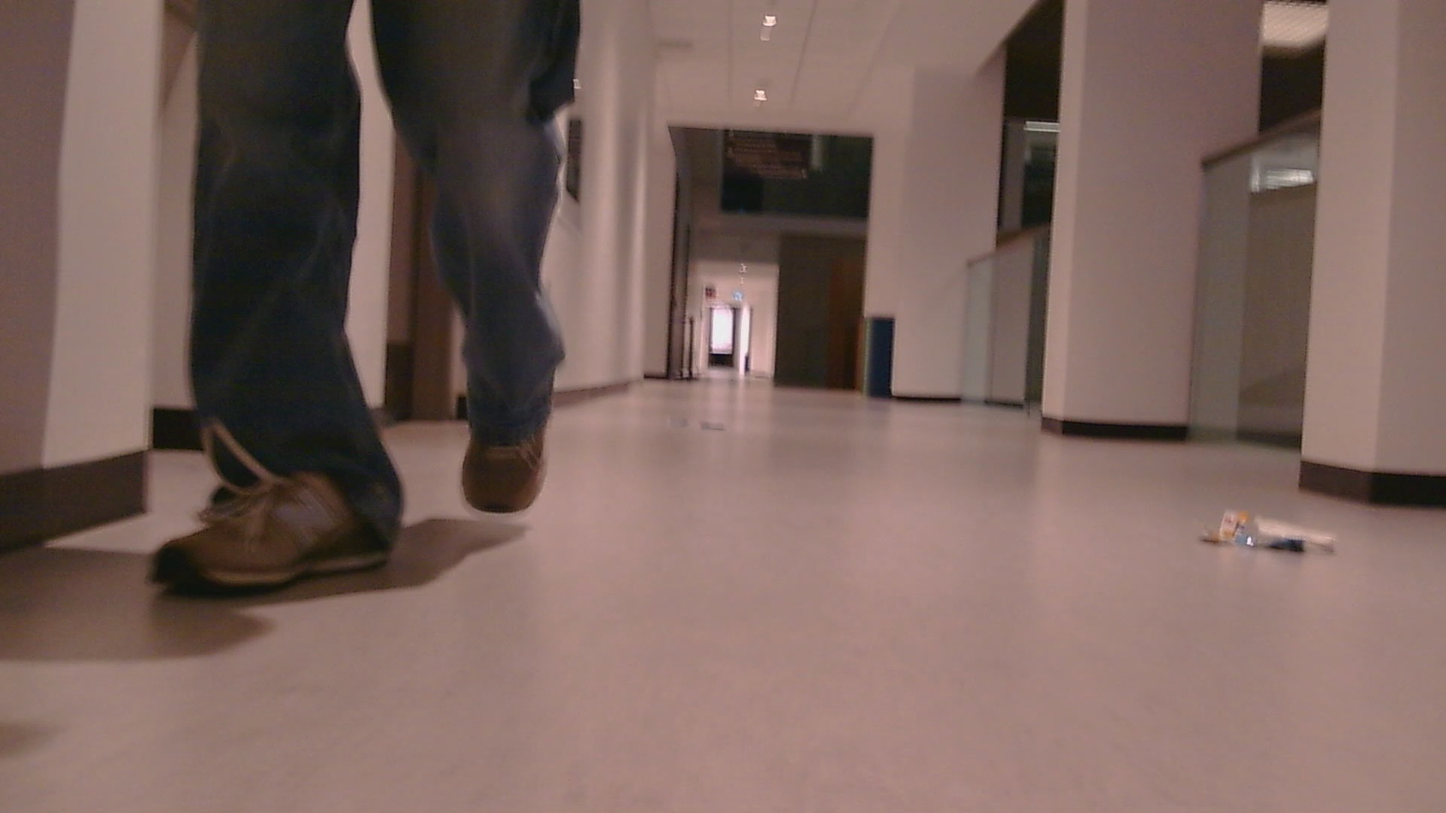carton: (1188, 479, 1358, 585), (700, 420, 745, 443)
